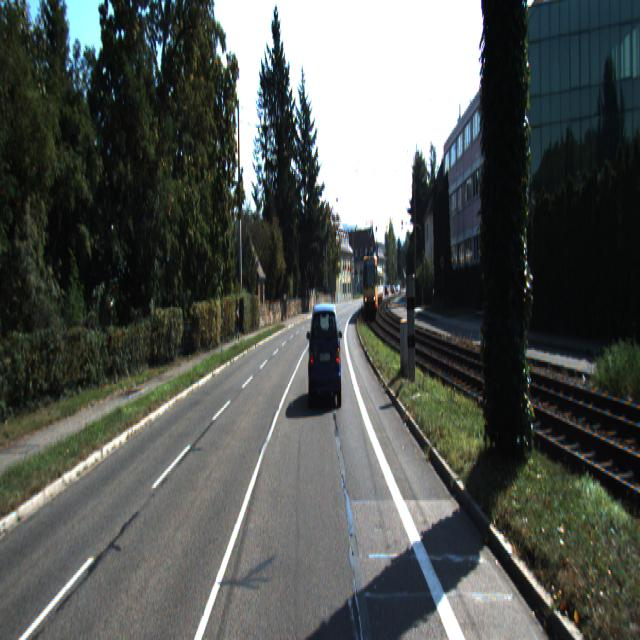Car: (307, 300, 342, 410), (362, 250, 378, 317)
